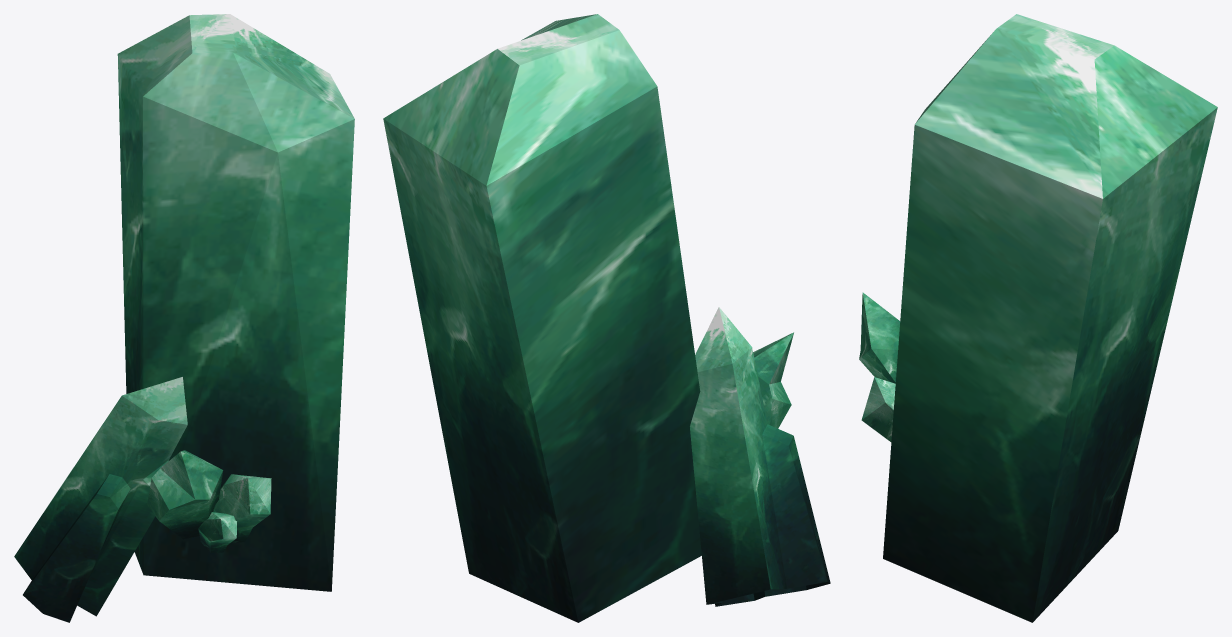
The model's file is environment_stone_shuijing_001_e.FBX.
3 views of the same model, side by side, from view 1: azimuth 30°, elevation 25°; view 2: azimuth 150°, elevation 25°; view 3: azimuth 270°, elevation 25° (orthographic). The views are drawn at different scales.
Parts seen in each view (by area): view 1: environment_stone_shuijing_001_e; view 2: environment_stone_shuijing_001_e; view 3: environment_stone_shuijing_001_e.
Part boxes in pixels (<box>): environment_stone_shuijing_001_e: <box>14,14,354,622</box>; environment_stone_shuijing_001_e: <box>383,14,830,622</box>; environment_stone_shuijing_001_e: <box>859,14,1217,622</box>.
Size of the model in its own units: 210 by 298 by 178.
1 material, 1 textured.
